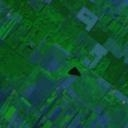alloviz: (67, 66, 81, 77)
